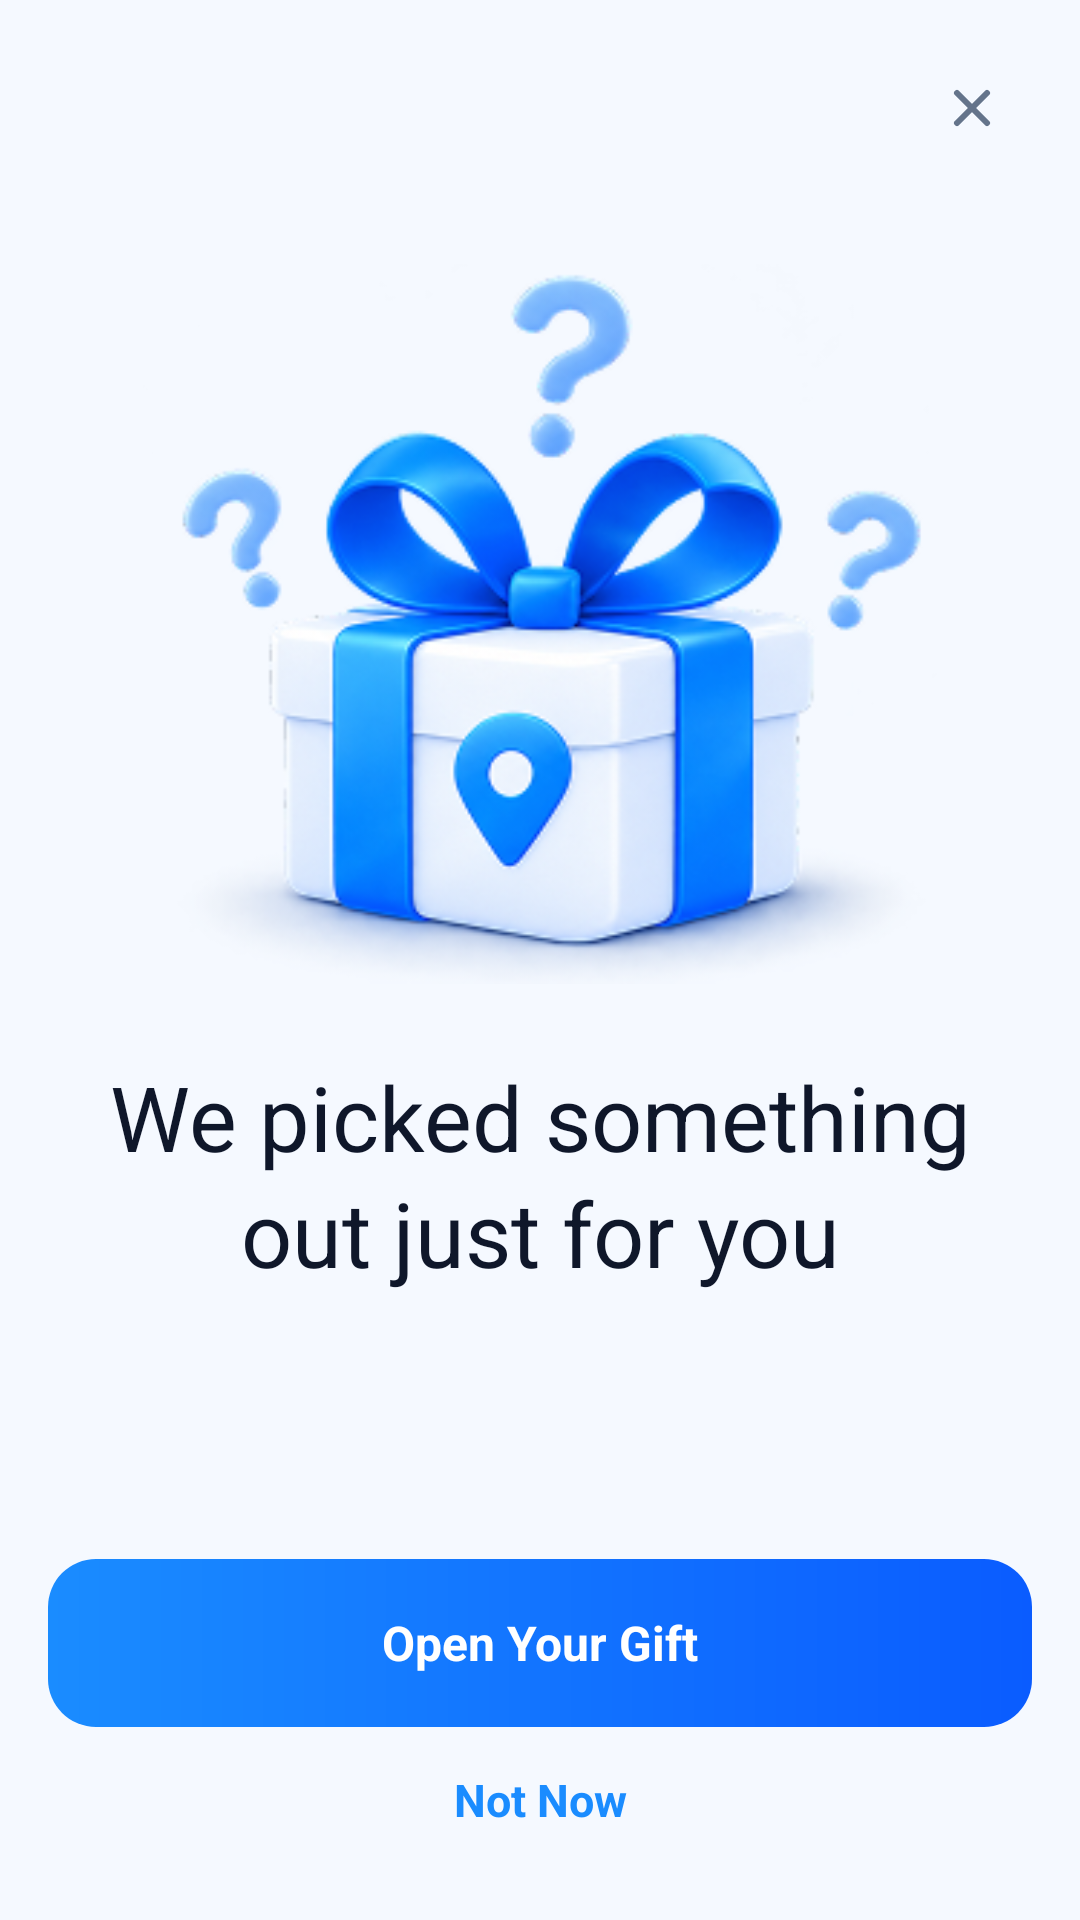

Locate icon controls on the screen. Image size 1080x1920, boxes as [x1, y1, x2, y2].
Close: [954, 90, 990, 126]
